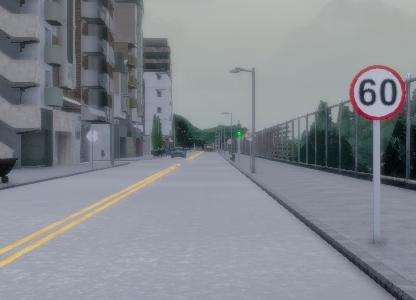Speed_60: (349, 64, 405, 121)
